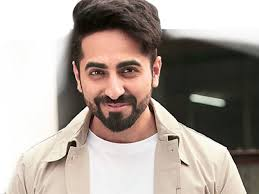b.y: (94, 97, 140, 132)
